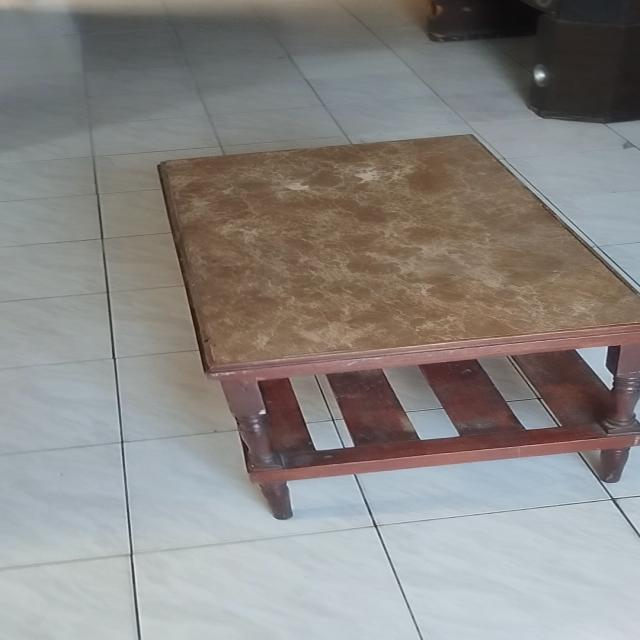table: (140, 127, 640, 515)
